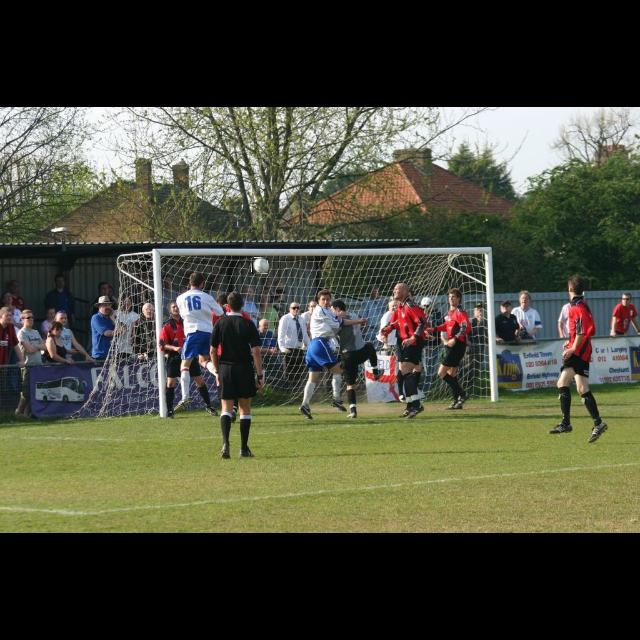Football: (252, 258, 268, 274)
